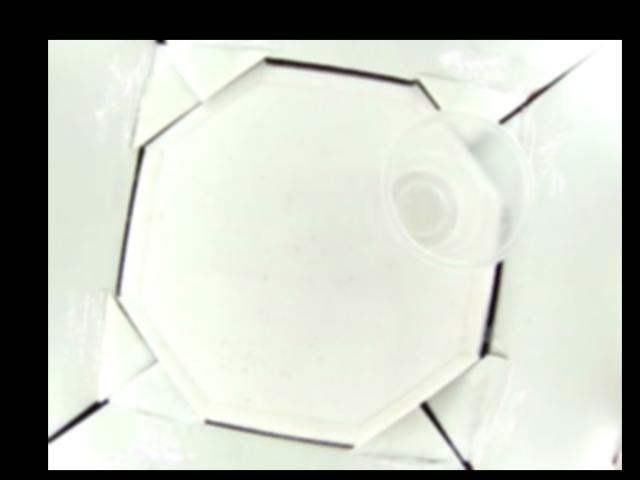Cup: (381, 107, 534, 269)
